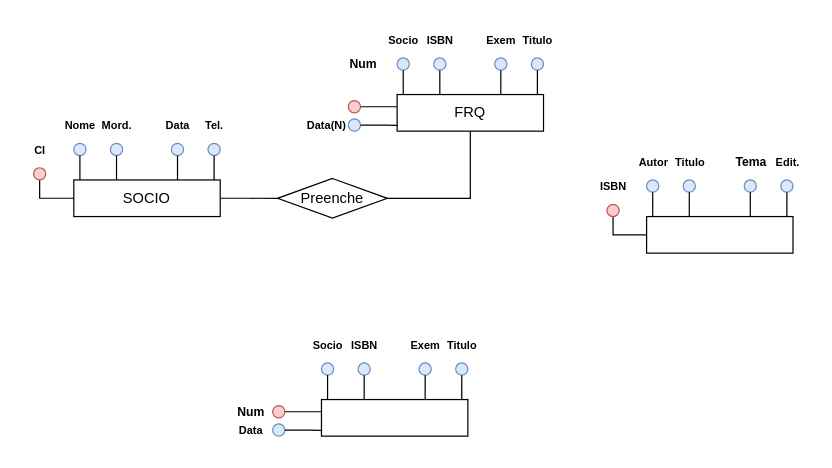
The diagram is 832 pixels wide and 468 high, and some of its shapes have lost their labels. Here are the shapes that lost their labels. From the top down, the centre of each, then its label:
(x=719, y=234): LIVRO
(x=394, y=417): FR
